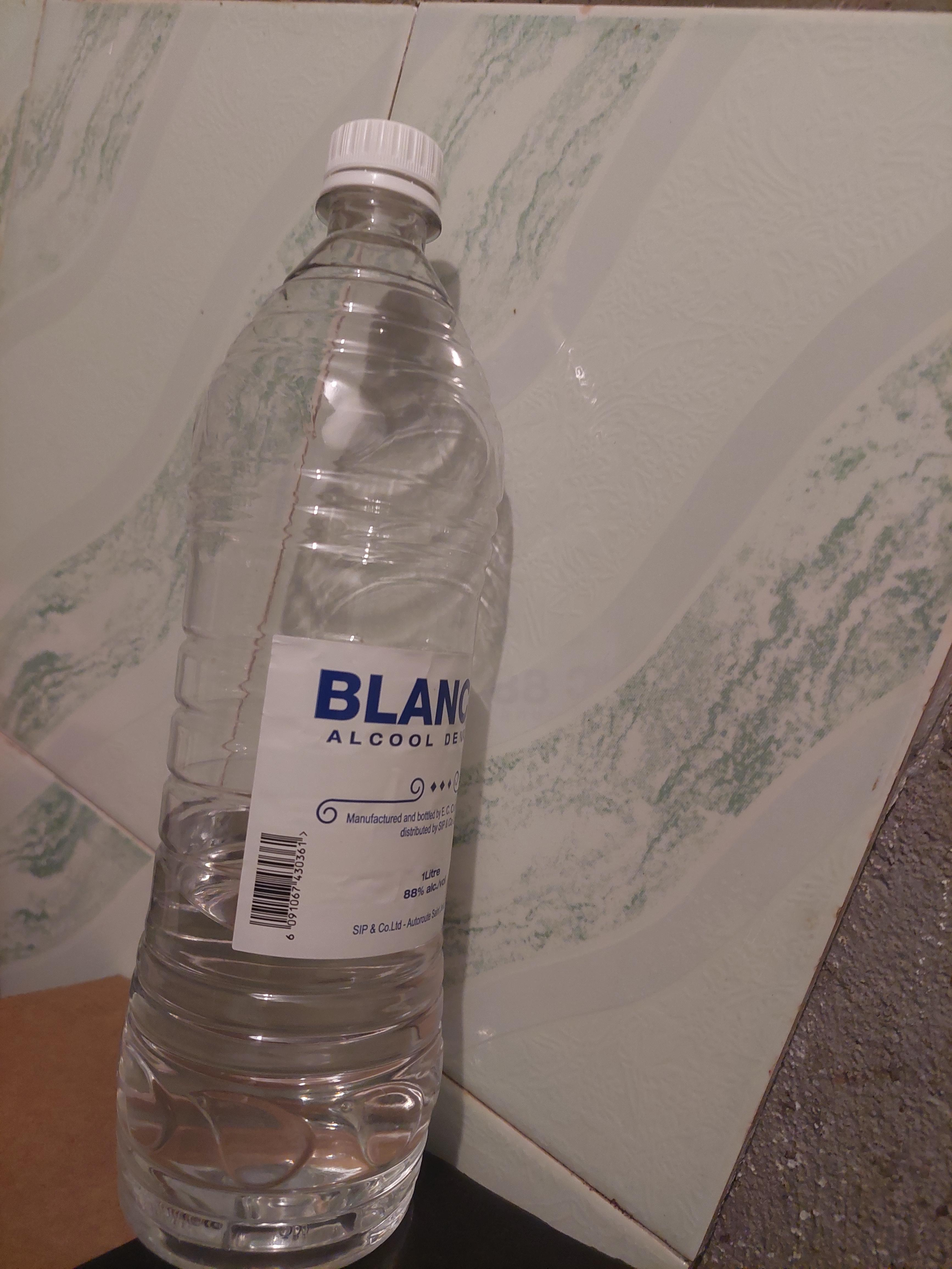bottle: (113, 117, 508, 1268)
